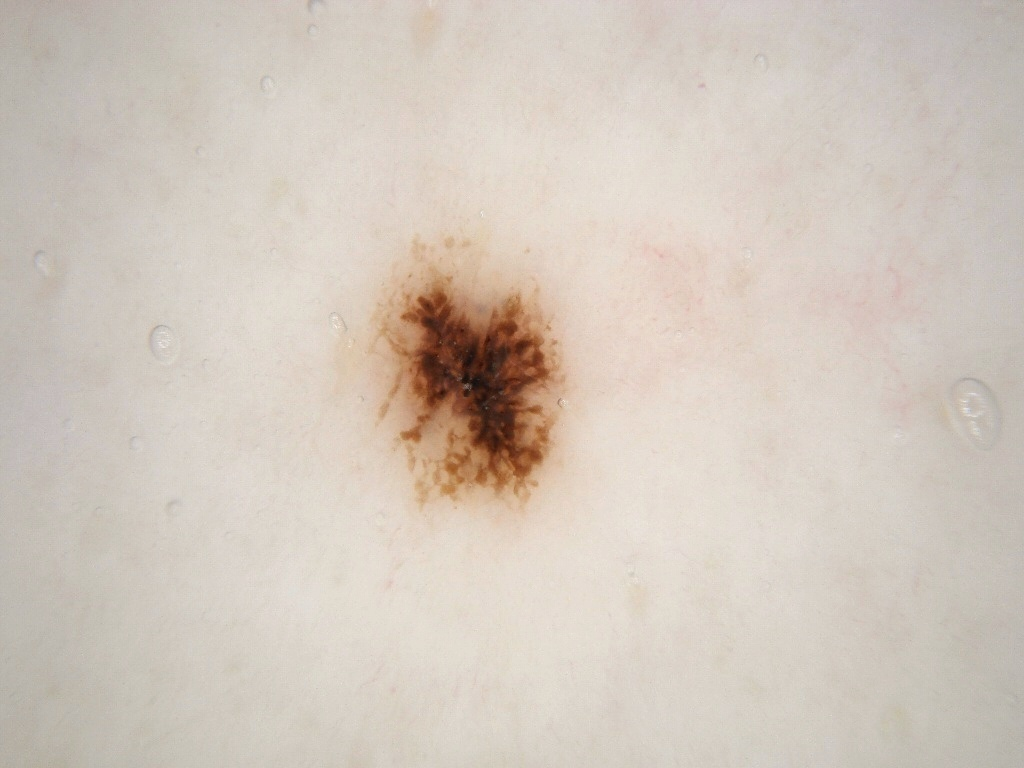Detected Lesion: (363, 225, 570, 508)
